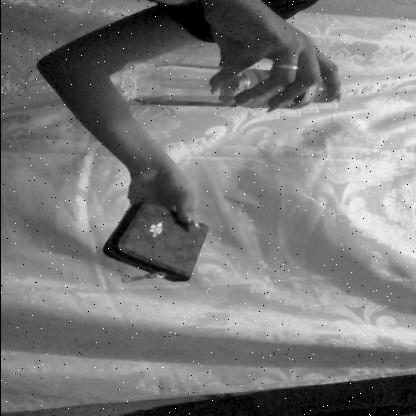Plastic Bottle: (110, 61, 346, 118)
